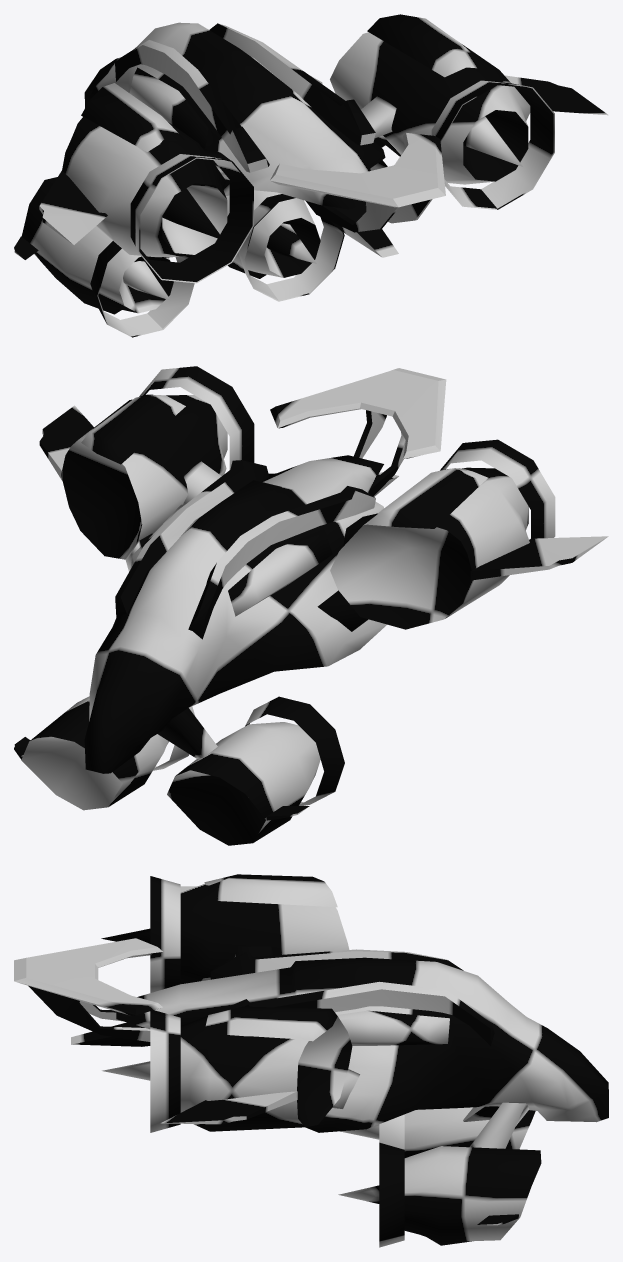
The model's file is streuner.obj.
3 renders of one model, top to bottom at view 1: azimuth 30°, elevation 25°; view 2: azimuth 150°, elevation 25°; view 3: azimuth 270°, elevation 25°, orthographic. The views are drawn at different scales.
Visible parts, largest first — view 1: streuner; view 2: streuner; view 3: streuner.
Part boxes in pixels (box(x1,y1,x2,y2)): streuner: box(14, 14, 608, 337); streuner: box(14, 366, 608, 845); streuner: box(14, 874, 608, 1247).
Size of the model in its own units: 93.72 by 49.6 by 99.56.
Materials: 1 (1 with a texture image).
